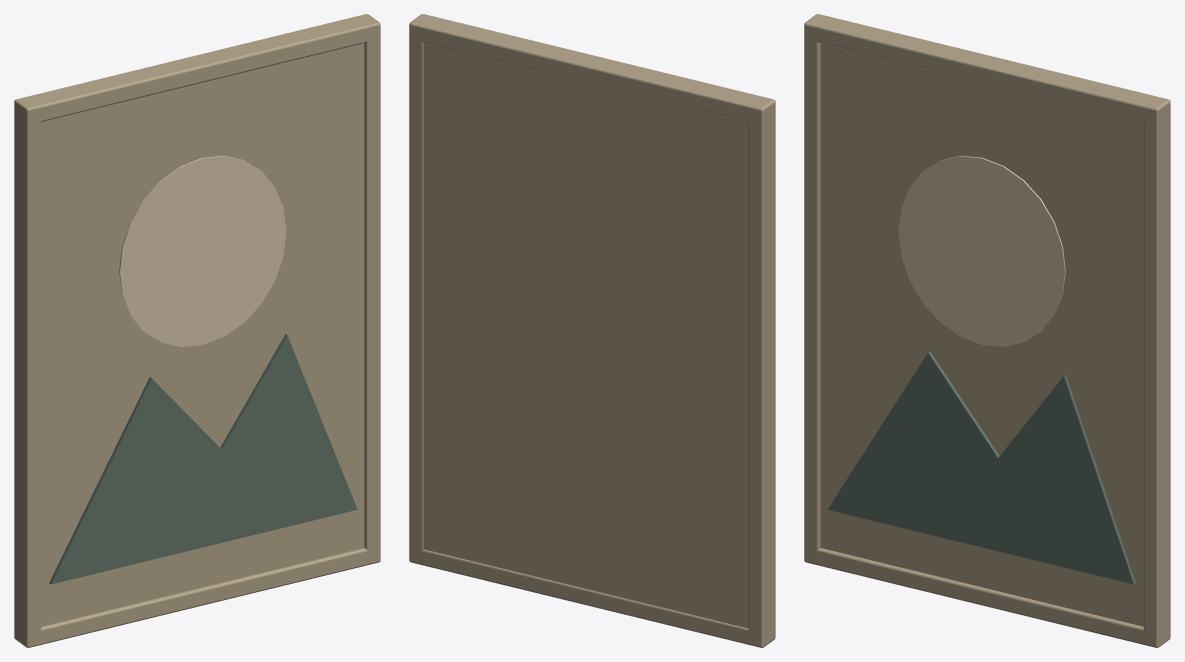
The model's file is poster.glb.
The picture shows the model from 3 angles, left to right: view 1: azimuth 30°, elevation 25°; view 2: azimuth 150°, elevation 25°; view 3: azimuth 330°, elevation 25°; orthographic projection.
Visible parts, largest first — view 1: poster-inset, poster-mountains, poster-moon, poster-stile--1, poster-rail-1, poster-stile-1, poster-rail--1; view 2: poster-inset, poster-stile--1, poster-rail-1, poster-stile-1, poster-rail--1; view 3: poster-inset, poster-mountains, poster-moon, poster-stile-1, poster-rail-1, poster-stile--1, poster-rail--1.
Part boxes in pixels (x1,y1,x2,y2): poster-inset: (41,43,364,626); poster-mountains: (49,334,357,584); poster-moon: (119,155,286,346); poster-stile--1: (14,97,41,647); poster-rail-1: (14,14,380,123); poster-stile-1: (356,14,380,564); poster-rail--1: (14,548,380,647); poster-inset: (423,42,748,628); poster-stile--1: (748,97,775,647); poster-rail-1: (409,14,775,123); poster-stile-1: (409,14,433,564); poster-rail--1: (409,548,775,647); poster-inset: (820,43,1143,626); poster-mountains: (827,351,1135,584); poster-moon: (898,155,1065,346); poster-stile-1: (1143,97,1170,647); poster-rail-1: (804,14,1170,123); poster-stile--1: (804,14,828,564); poster-rail--1: (804,548,1170,647).
Size of the model in its own units: 0.81 by 1.18 by 0.055.
